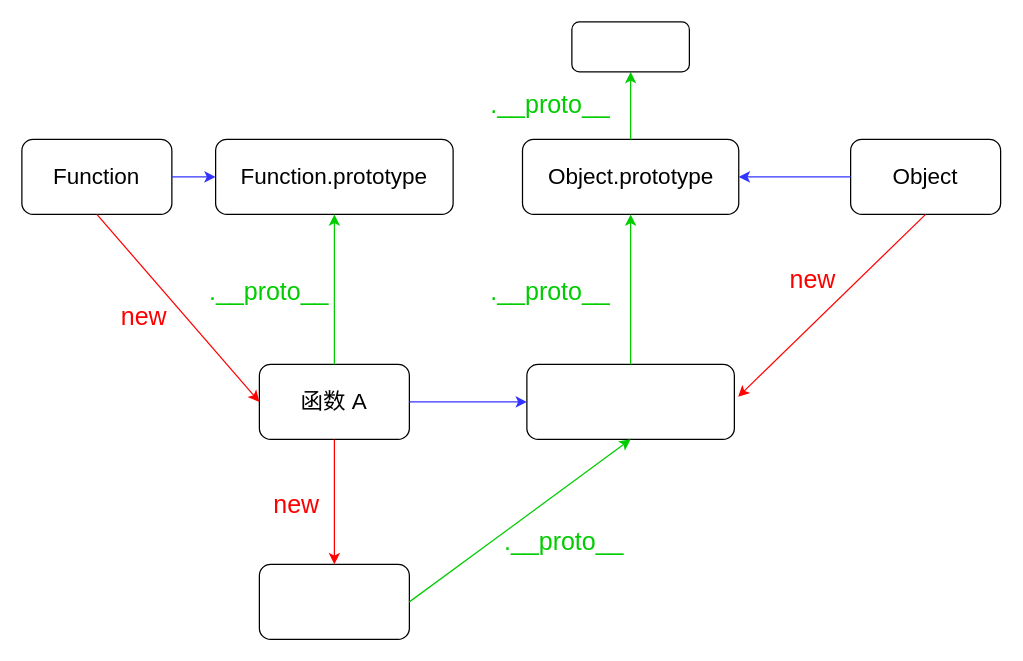
Some shapes in this 1023 by 661 pixel diagram are drawn without their labels. The centre of each missing label's shape, as x and y in pixels:
"A.prototype" belongs at (630,401).
"null" belongs at (630,46).
"对象 a" belongs at (333,601).
